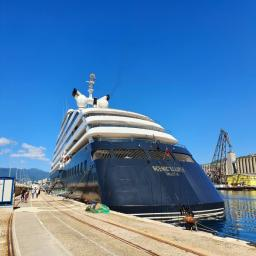cruises: (46, 72, 229, 229)
